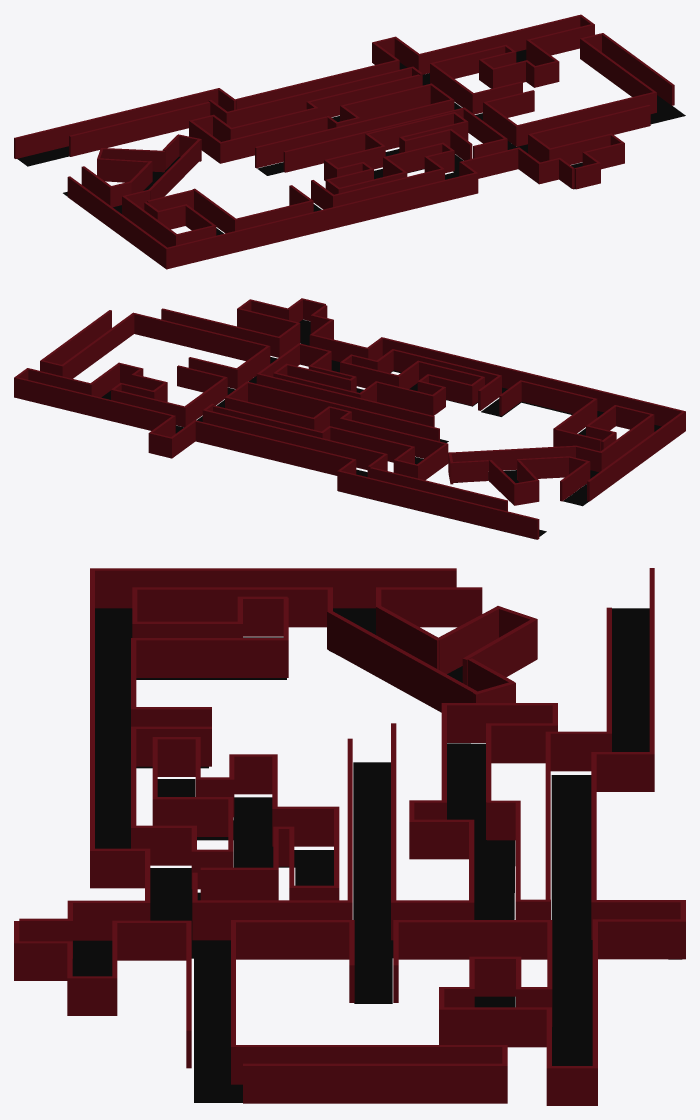
Rendered from Maze_1.glb.
3 views of the same model, one above another, from view 1: azimuth 30°, elevation 25°; view 2: azimuth 150°, elevation 25°; view 3: azimuth 270°, elevation 25° (orthographic). The views are drawn at different scales.
Visible parts, largest first — view 1: Cube__84_, Plane; view 2: Cube__84_, Plane; view 3: Cube__84_, Plane.
Boxes of the visible parts, x1,y1,x2,y2 form: Cube__84_: (14,14,674,269); Plane: (17,49,685,235); Cube__84_: (14,298,685,539); Plane: (101,319,661,539); Cube__84_: (14,568,685,1105); Plane: (72,608,681,1102).
Bounding box in the file's own units: 86.03 × 3.49 × 48.86.
